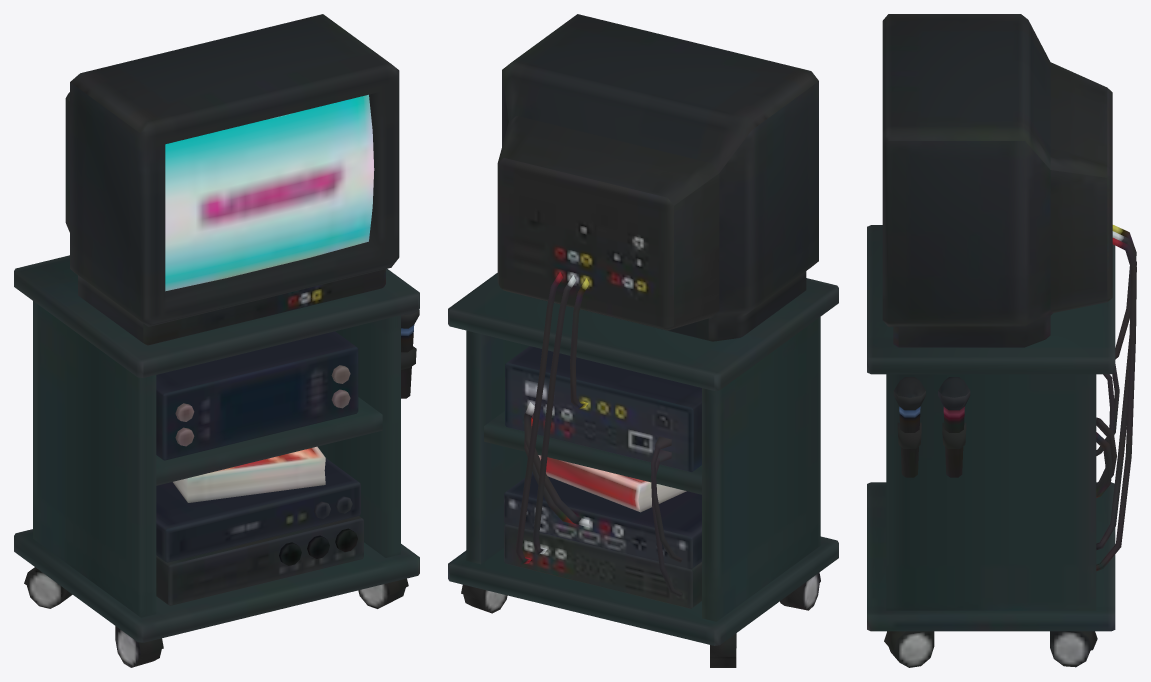
3 views of the same model, side by side, from view 1: azimuth 30°, elevation 25°; view 2: azimuth 150°, elevation 25°; view 3: azimuth 270°, elevation 25° (orthographic). The views are drawn at different scales.
Bounding box in the file's own units: 9.47 × 16.32 × 7.5.
Materials: 2 (2 with a texture image).
